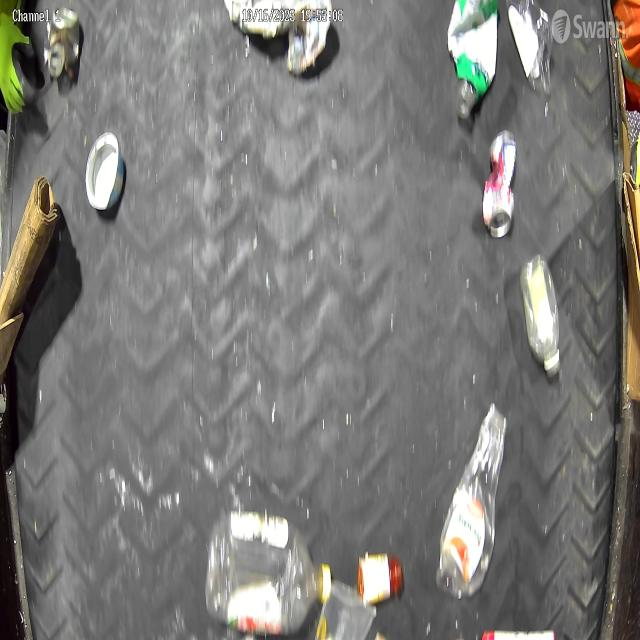can: (482, 129, 522, 251), (84, 123, 128, 224), (41, 1, 84, 88)
non_white_jug: (448, 0, 500, 125)
plastic_bottle: (202, 504, 330, 636), (432, 394, 510, 602), (519, 245, 568, 386)
